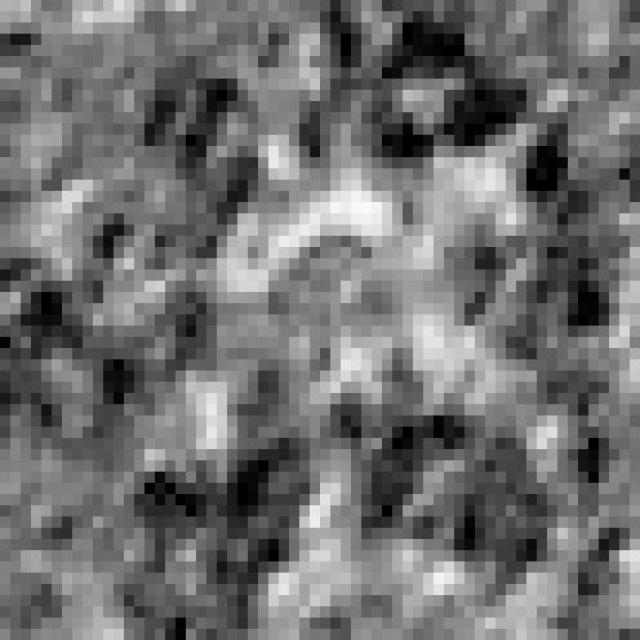inner: (168, 180, 475, 425)
lobe: (38, 30, 268, 290), (451, 122, 630, 422), (0, 249, 190, 492), (118, 414, 321, 640), (360, 399, 557, 608), (293, 3, 526, 172)
outer: (0, 0, 640, 640)
